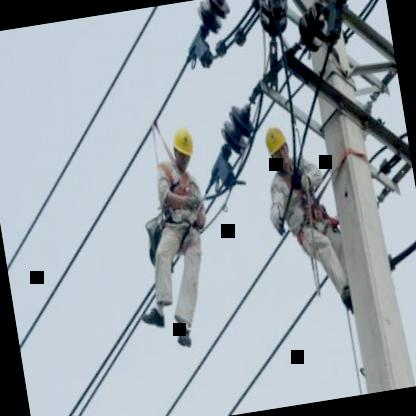helmet: (259, 122, 295, 176), (168, 118, 198, 170)
